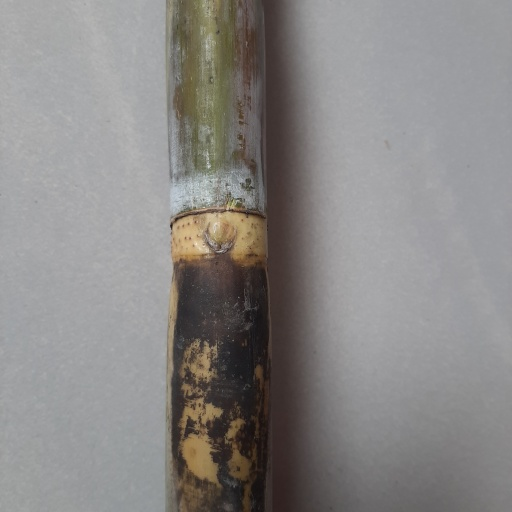Bud: (205, 215, 237, 255)
